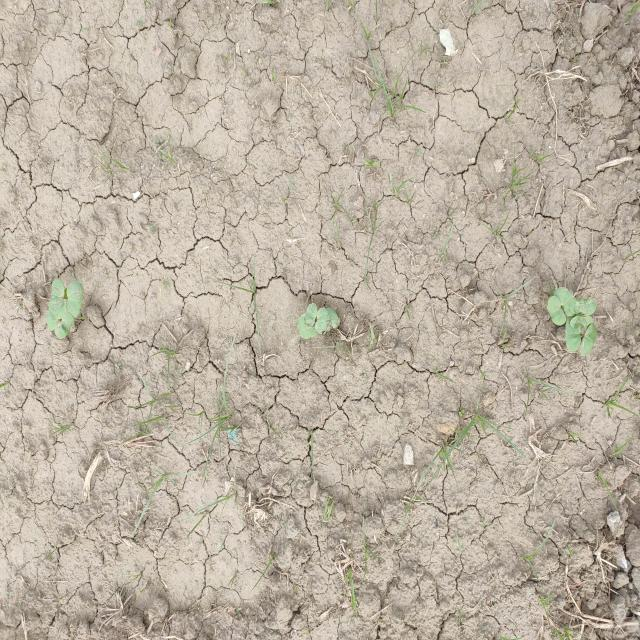seedling_s2: (64, 281, 83, 318), (554, 287, 575, 317), (547, 295, 566, 326), (49, 278, 65, 314), (580, 323, 597, 356), (565, 317, 581, 351), (55, 313, 75, 339), (46, 305, 65, 331), (570, 297, 596, 315), (315, 307, 328, 334), (570, 315, 593, 330), (299, 322, 317, 339), (305, 303, 317, 328), (327, 307, 339, 328), (297, 313, 307, 331)
